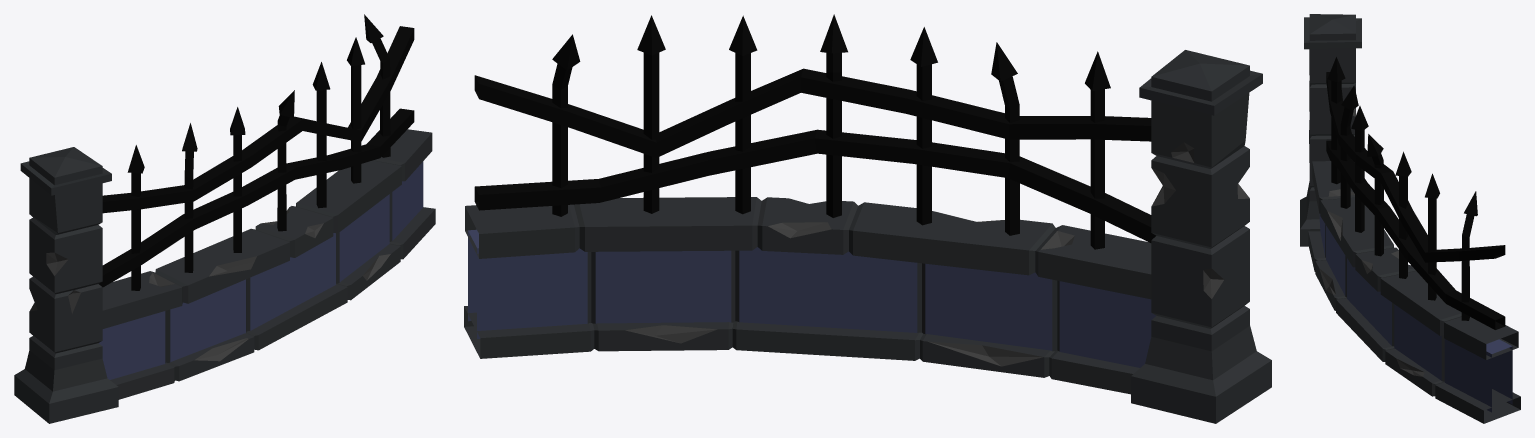
File: GraveyardCorner45Wall (2).fbx
3 renders of one model, left to right at view 1: azimuth 30°, elevation 25°; view 2: azimuth 150°, elevation 25°; view 3: azimuth 270°, elevation 25°, orthographic. The views are drawn at different scales.
Parts seen in each view (by area): view 1: Cube; view 2: Cube; view 3: Cube.
Part boxes in pixels (box(x1,y1,x2,y2)): Cube: box(14, 14, 435, 423); Cube: box(464, 14, 1271, 423); Cube: box(1300, 14, 1520, 423).
Bounding box in the file's own units: 307 × 146 × 137.
